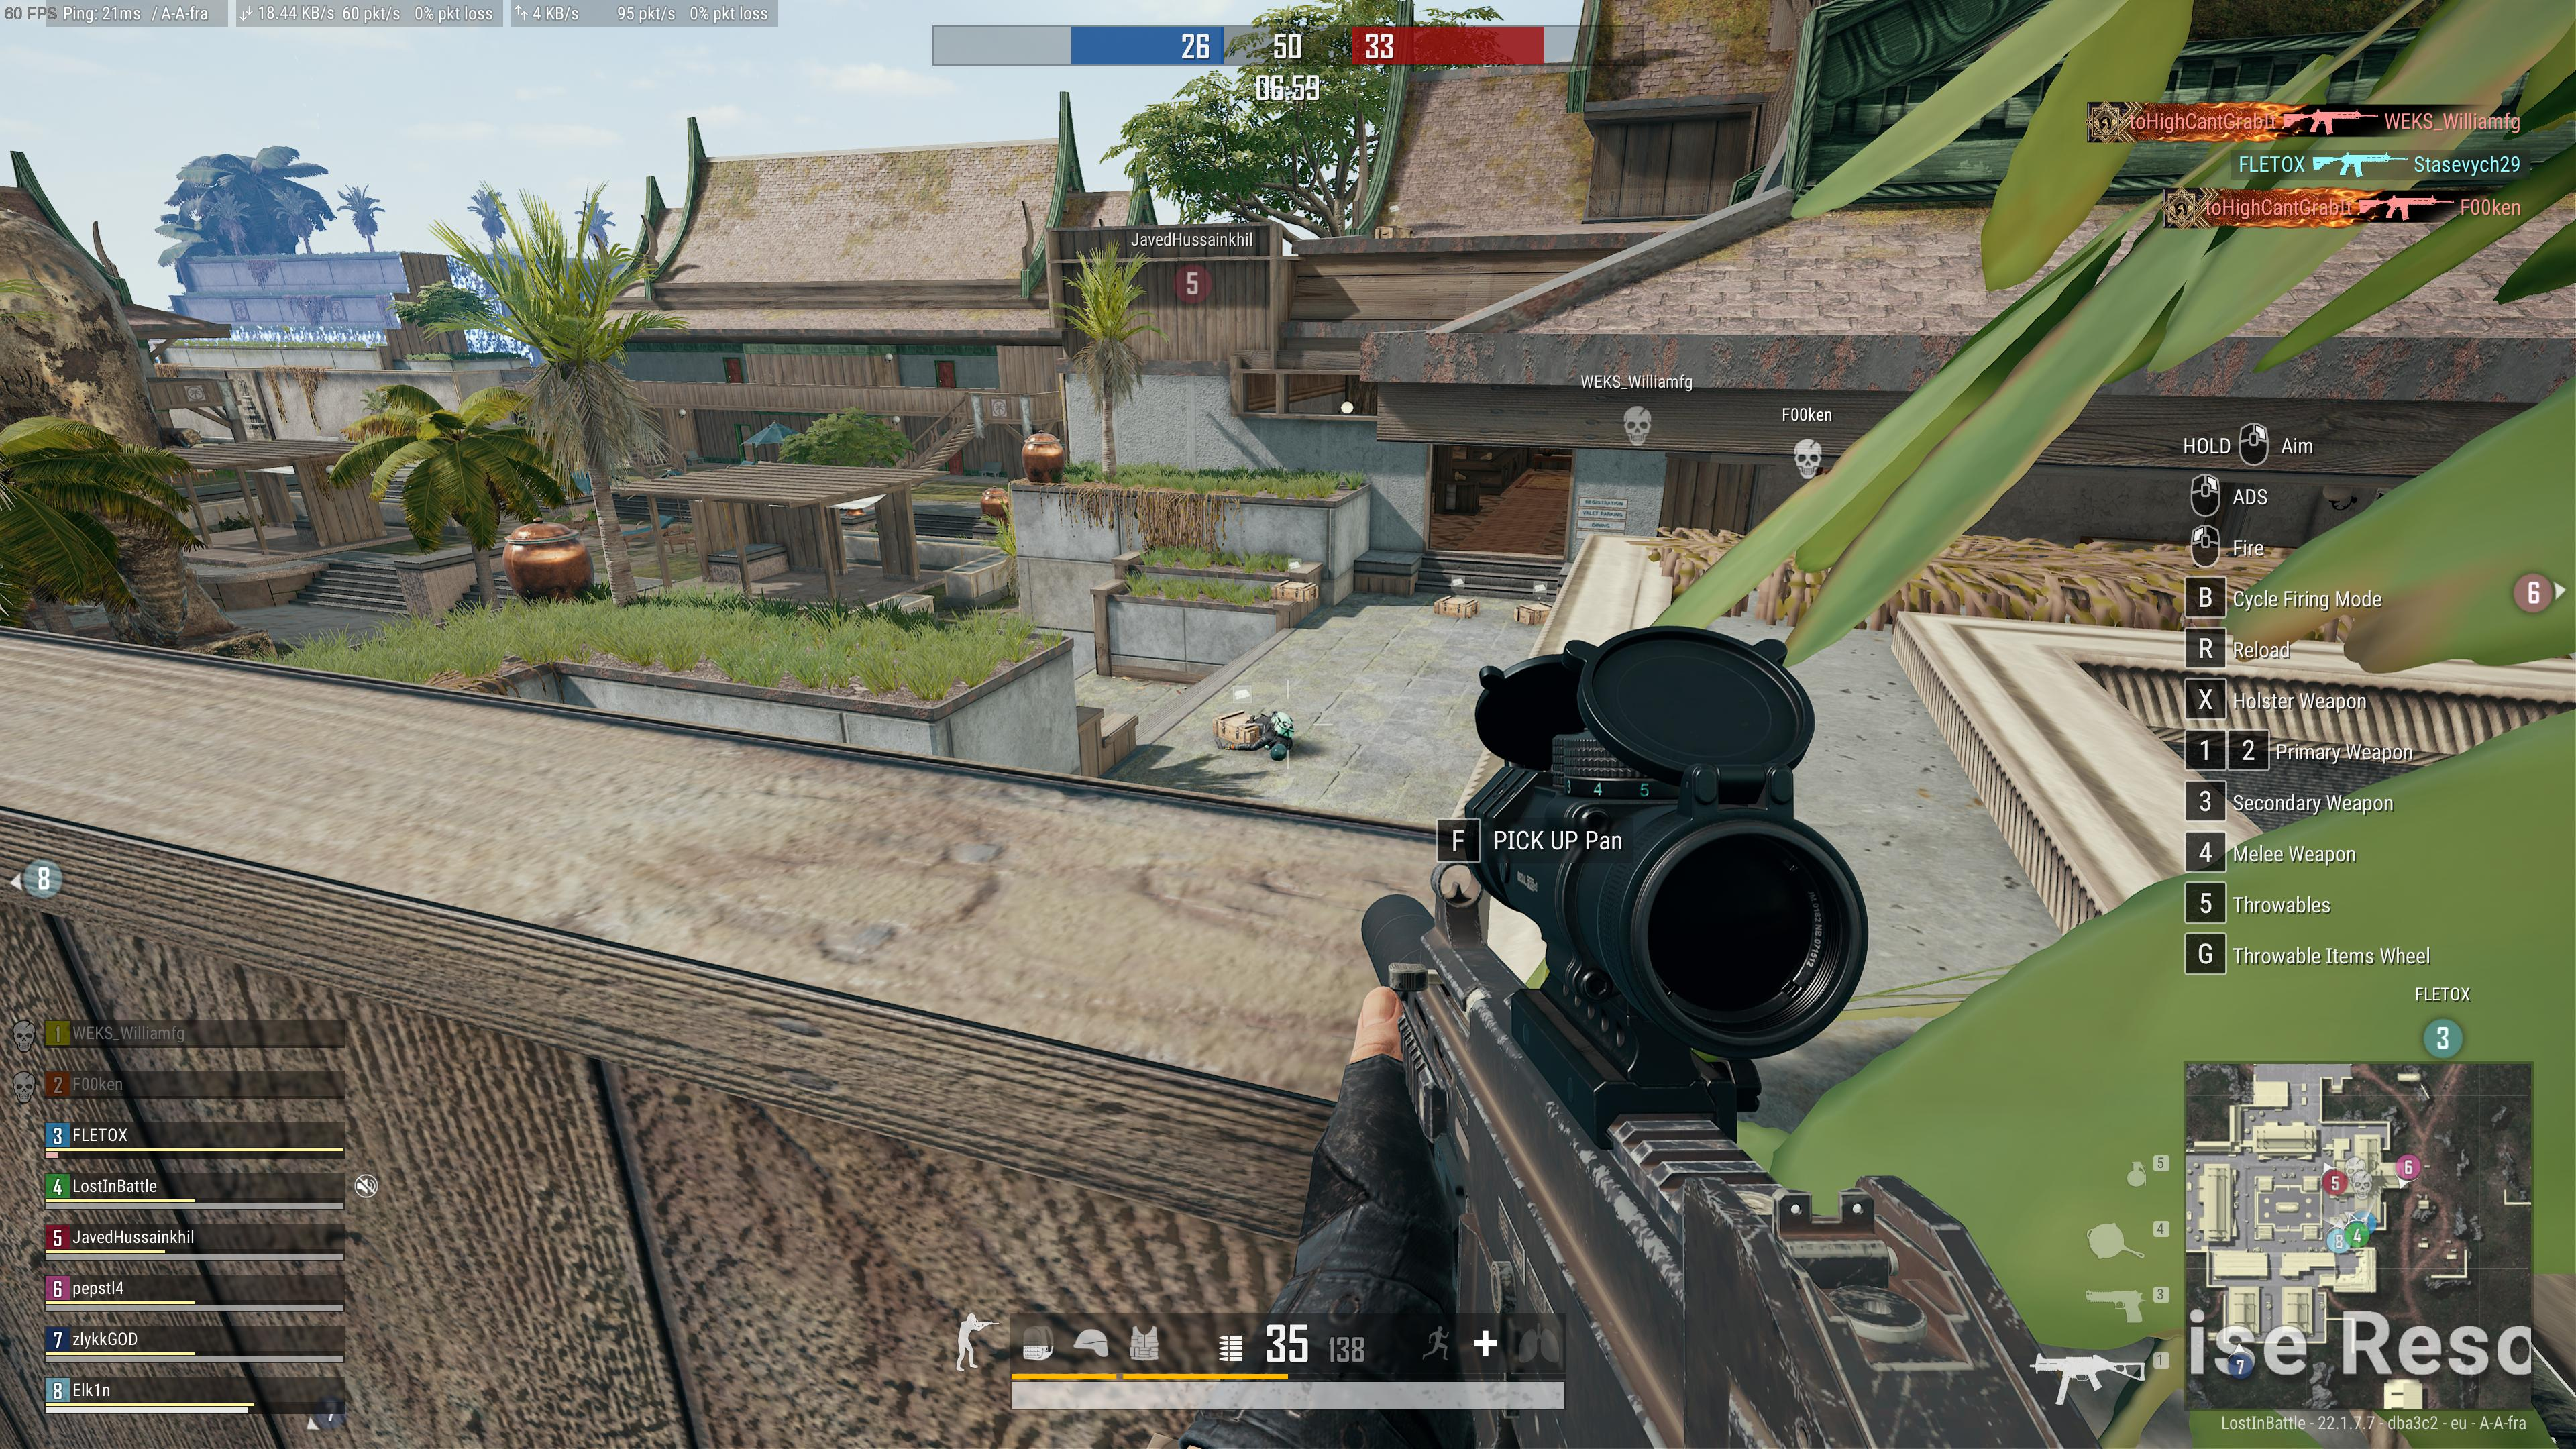enemy: (1256, 706, 1295, 763)
enemy_head: (1269, 741, 1288, 761)
